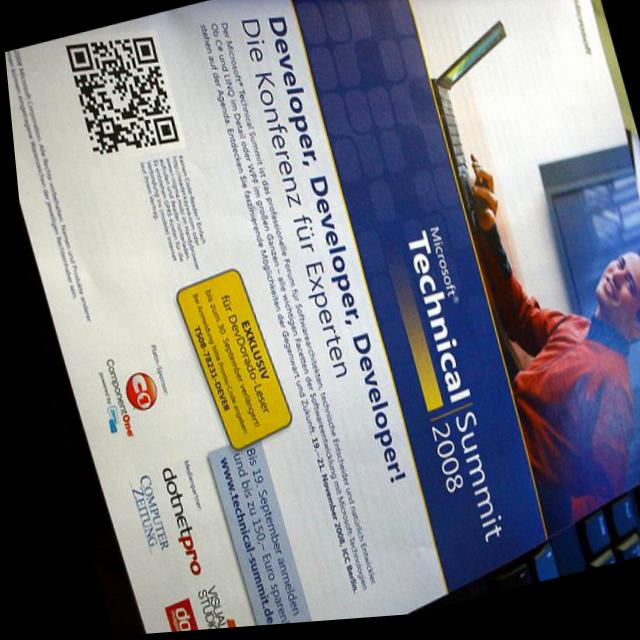qrcode: (63, 27, 178, 164)
